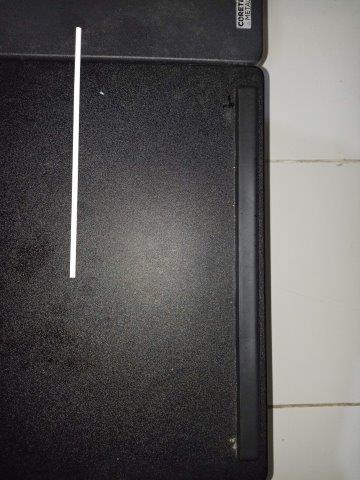sedotan: (69, 27, 81, 278)
